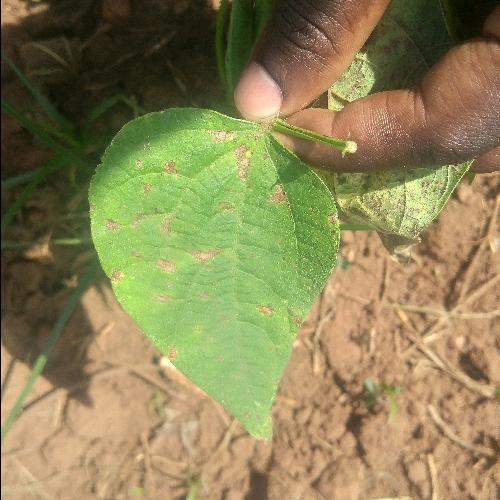embun tepung: (118, 164, 297, 367)
